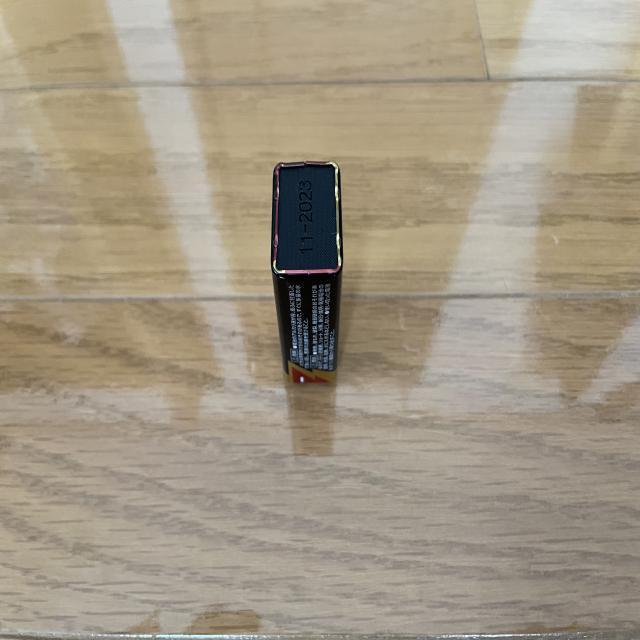9V: (270, 159, 343, 388)
